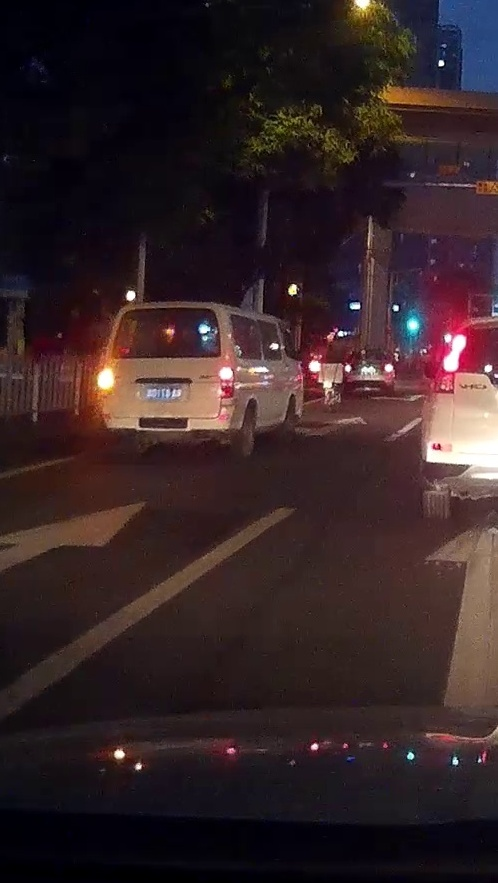L_light: (96, 366, 114, 396), (344, 363, 352, 374)
R_light: (218, 366, 234, 398), (384, 363, 393, 372)
T_light: (164, 308, 179, 314), (367, 351, 376, 355)
night-no: (96, 301, 235, 463), (344, 350, 394, 395)
